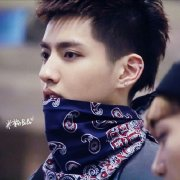face: (38, 14, 115, 116), (143, 84, 179, 179)
